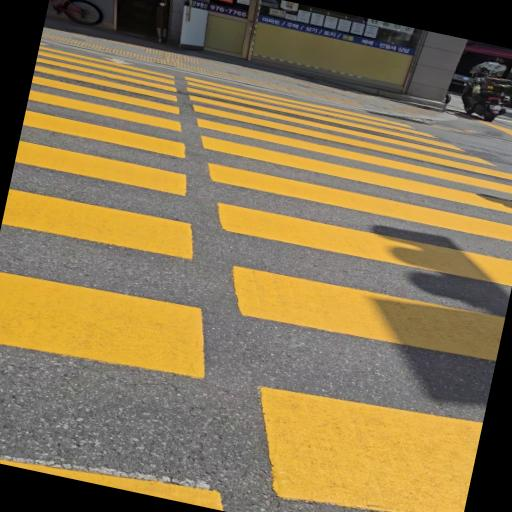yellow-crosswalk: (0, 33, 512, 512)
